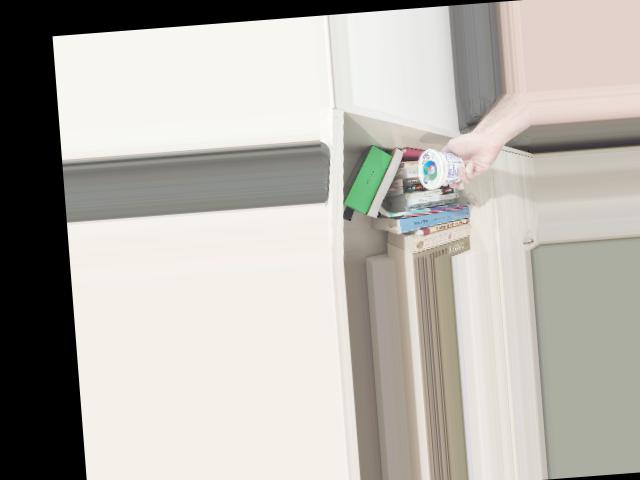cotage: (414, 147, 473, 191)
